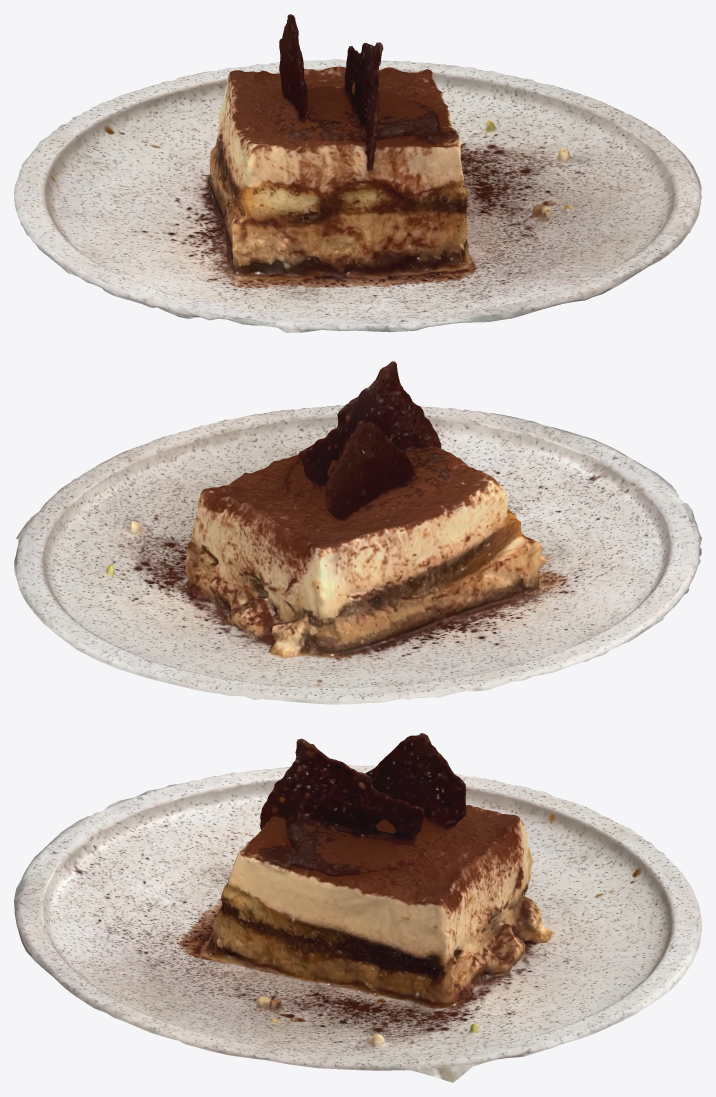
The model's file is tiramisu.glb.
The picture shows the model from 3 angles, top to bottom: view 1: azimuth 30°, elevation 25°; view 2: azimuth 150°, elevation 25°; view 3: azimuth 270°, elevation 25°; orthographic projection.
Parts seen in each view (by area): view 1: Object_2; view 2: Object_2; view 3: Object_2.
Part boxes in pixels (x1,y1,x2,y2): Object_2: (14, 14, 701, 332); Object_2: (14, 361, 701, 704); Object_2: (14, 733, 701, 1082).
Size of the model in its own units: 147 by 47.81 by 146.
Materials: 1 (1 with a texture image).
